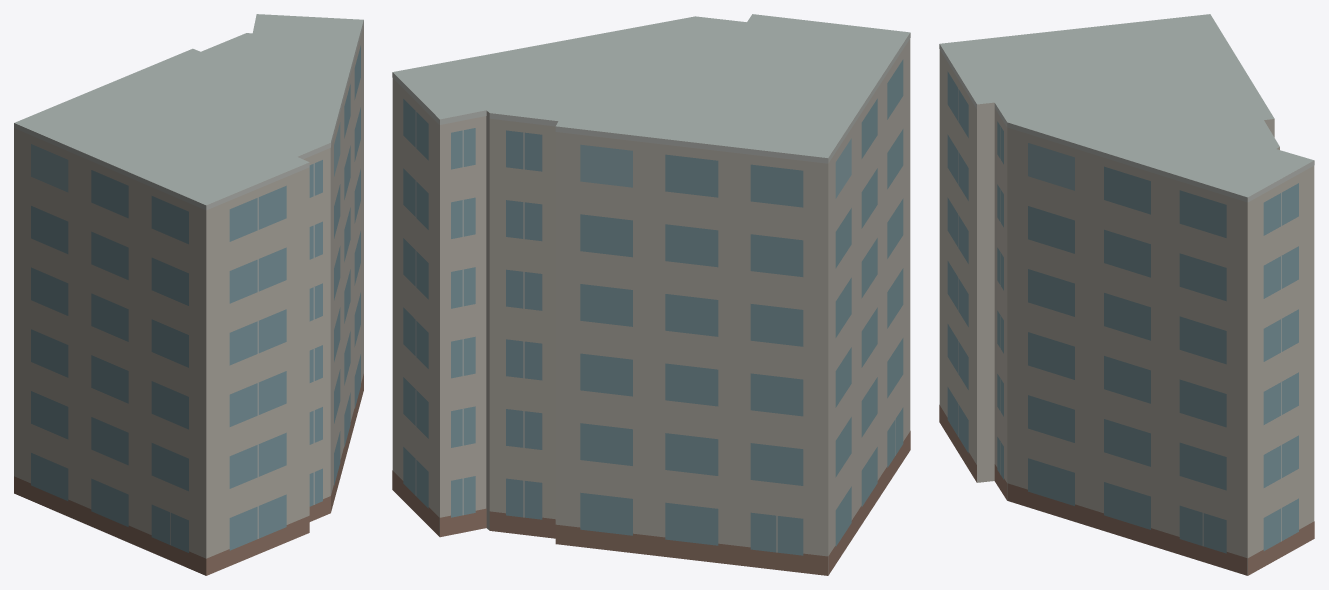
File: survey-upis-32696586.glb
3 views of the same model, side by side, from view 1: azimuth 30°, elevation 25°; view 2: azimuth 150°, elevation 25°; view 3: azimuth 270°, elevation 25° (orthographic). The views are drawn at different scales.
Parts seen in each view (by area): view 1: survey-upis-32696586.tmp; view 2: survey-upis-32696586.tmp; view 3: survey-upis-32696586.tmp.
Boxes of the visible parts, bbox=[...] form: survey-upis-32696586.tmp: bbox=[14, 14, 363, 575]; survey-upis-32696586.tmp: bbox=[392, 14, 910, 575]; survey-upis-32696586.tmp: bbox=[939, 14, 1314, 575].
Size of the model in its own units: 18.83 by 18.1 by 16.26.
